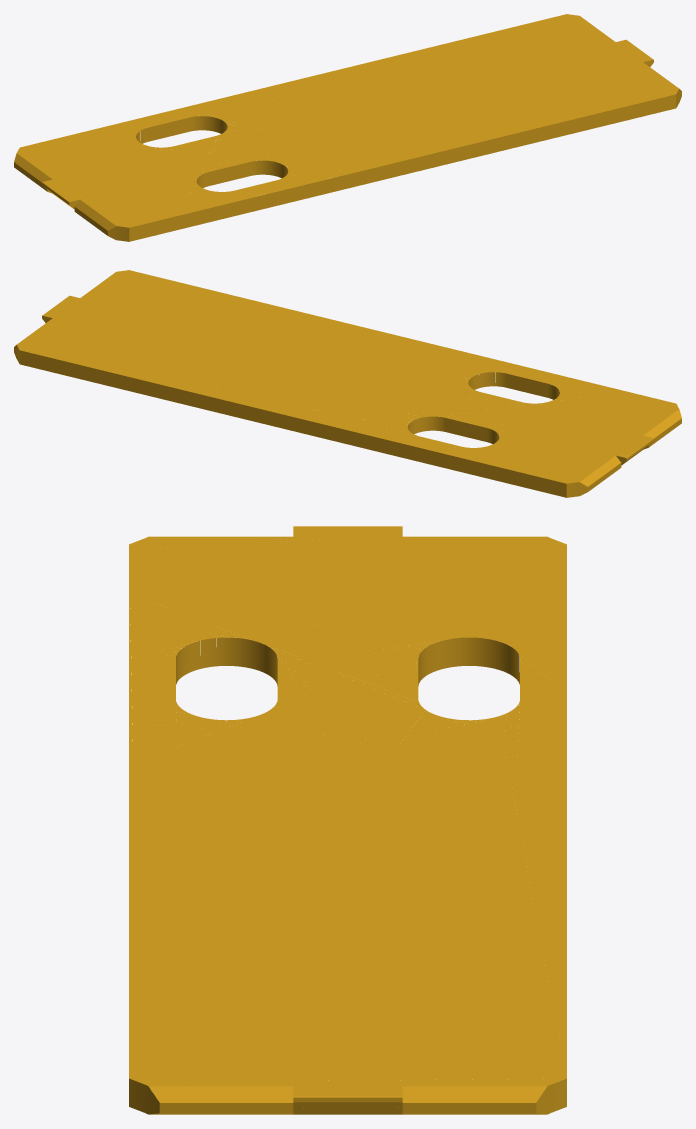
File: asinma-atlas-copco-hb-2500-03.glb
3 views of the same model, one above another, from view 1: azimuth 30°, elevation 25°; view 2: azimuth 150°, elevation 25°; view 3: azimuth 270°, elevation 25° (orthographic). The views are drawn at different scales.
Parts seen in each view (by area): view 1: body; view 2: body; view 3: body.
Part boxes in pixels (<box>): body: <box>14,14,681,241</box>; body: <box>14,270,681,497</box>; body: <box>129,526,566,1114</box>.
Size of the model in its own units: 0.863 by 0.02 by 0.28.
